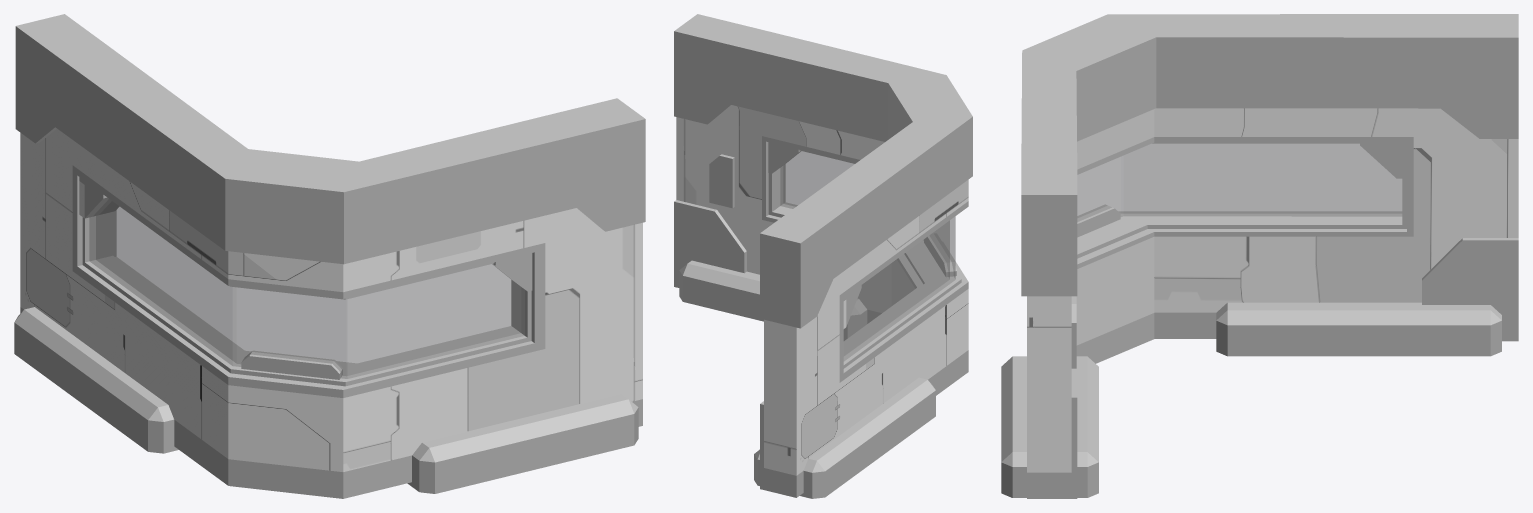
Rendered from SM_Wall_4x3_Corner_Window_A.fbx.
3 renders of one model, left to right at view 1: azimuth 30°, elevation 25°; view 2: azimuth 150°, elevation 25°; view 3: azimuth 270°, elevation 25°, orthographic. The views are drawn at different scales.
Visible parts, largest first — view 1: SM_Wall_4x3_Corner_Window_A; view 2: SM_Wall_4x3_Corner_Window_A; view 3: SM_Wall_4x3_Corner_Window_A.
Part boxes in pixels (x1,y1,x2,y2): SM_Wall_4x3_Corner_Window_A: (14,14,645,498); SM_Wall_4x3_Corner_Window_A: (674,14,972,498); SM_Wall_4x3_Corner_Window_A: (1001,14,1518,498).
Size of the model in its own units: 399 by 305 by 463.
